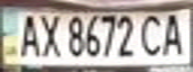2: (115, 11, 139, 58)
6: (81, 12, 103, 59)
7: (97, 11, 118, 58)
8: (63, 12, 84, 57)
A: (157, 10, 190, 57), (12, 11, 42, 58)
C: (136, 11, 166, 57)
X: (36, 11, 63, 58)
